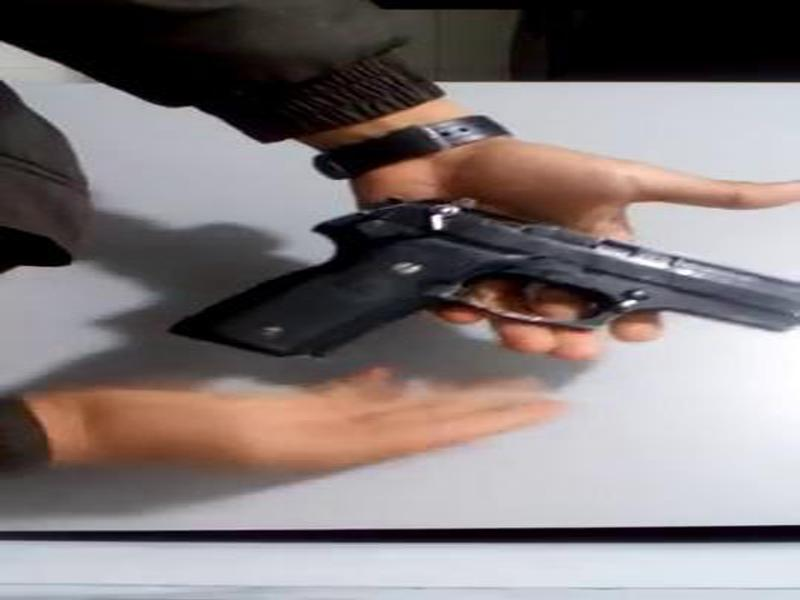Pistola: (186, 173, 790, 384)
